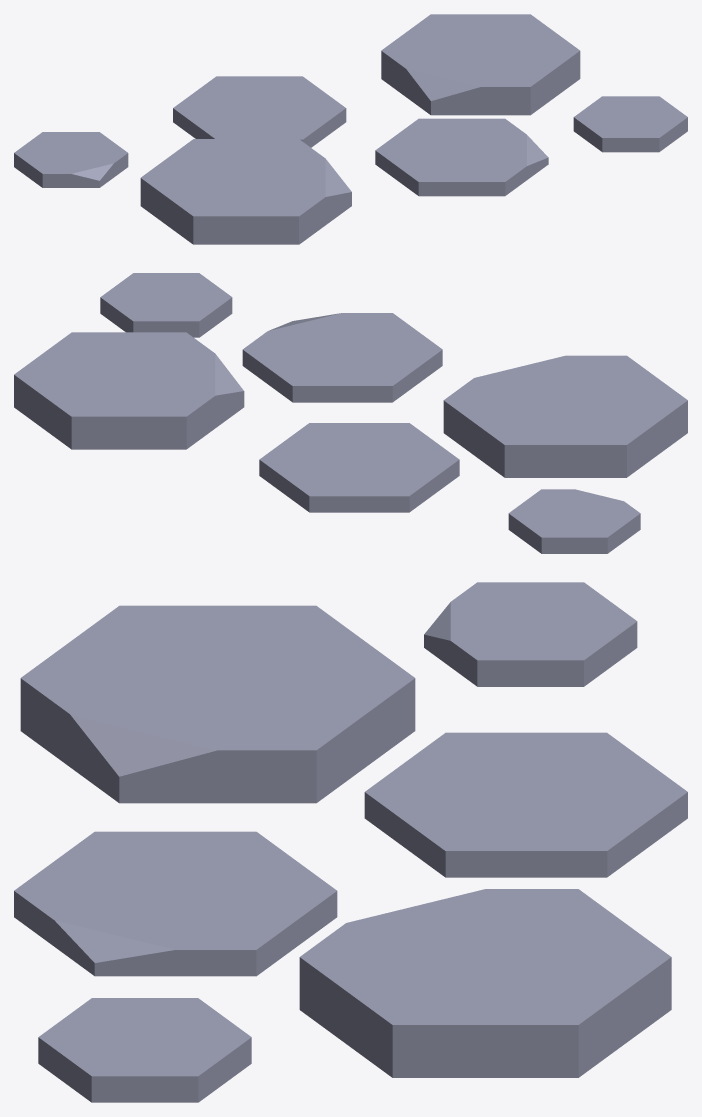
Rendered from kenney_nature-kit__path_stone.fbx.
3 views of the same model, one above another, from view 1: azimuth 30°, elevation 25°; view 2: azimuth 150°, elevation 25°; view 3: azimuth 270°, elevation 25° (orthographic). The views are drawn at different scales.
Visible parts, largest first — view 1: kenney_nature-kit__path_stone__cave_stone; view 2: kenney_nature-kit__path_stone__cave_stone; view 3: kenney_nature-kit__path_stone__cave_stone.
Part boxes in pixels (x1=…): kenney_nature-kit__path_stone__cave_stone: x1=14, y1=14, x2=687, y2=244; kenney_nature-kit__path_stone__cave_stone: x1=14, y1=273, x2=687, y2=553; kenney_nature-kit__path_stone__cave_stone: x1=14, y1=582, x2=687, y2=1102.
Size of the model in its own units: 3.57 by 0.1786 by 2.06.
